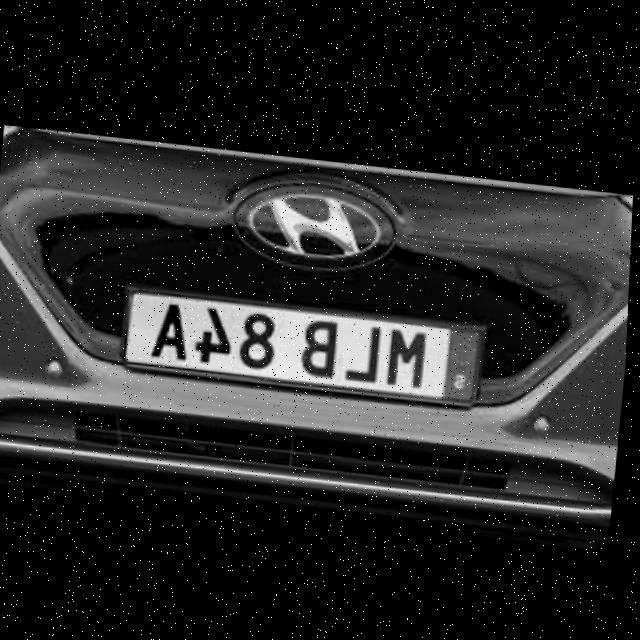license-plates: (122, 292, 482, 406)
